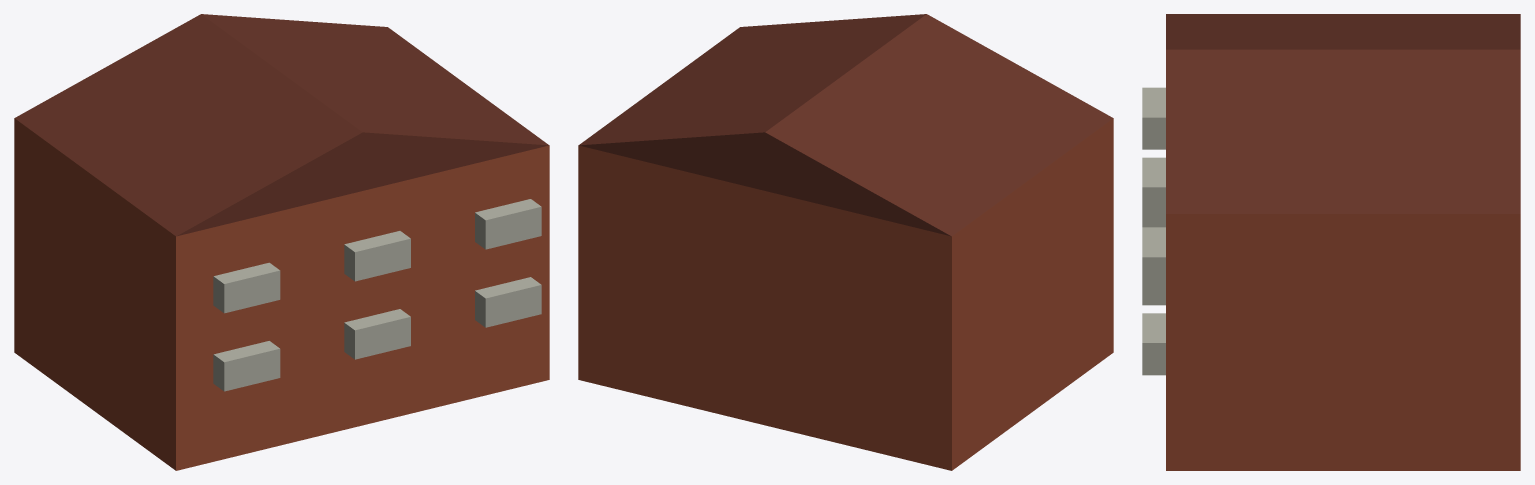
Rendered from residential_01.obj.
3 renders of one model, left to right at view 1: azimuth 30°, elevation 25°; view 2: azimuth 150°, elevation 25°; view 3: azimuth 270°, elevation 25°, orthographic. The views are drawn at different scales.
Parts seen in each view (by area): view 1: Residential01; view 2: Residential01; view 3: Residential01.
Boxes of the visible parts, x1,y1,x2,y2 form: Residential01: (14, 14, 549, 470); Residential01: (578, 14, 1113, 470); Residential01: (1142, 14, 1520, 470).
Bounding box in the file's own units: 20 × 15 × 16.
